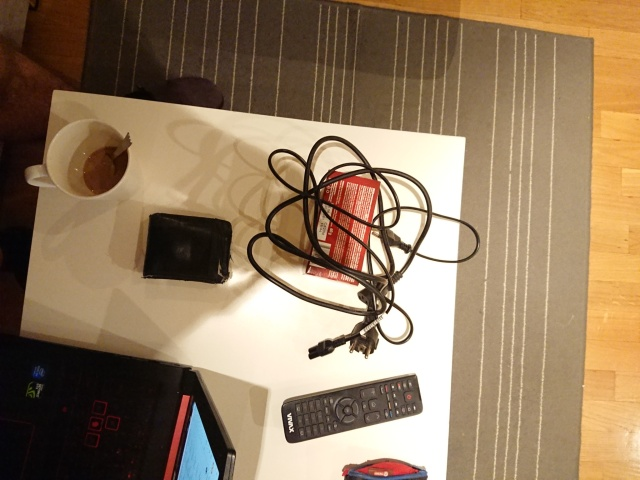Franck Apple Cinnamon Tea 60g: (302, 168, 383, 288)
